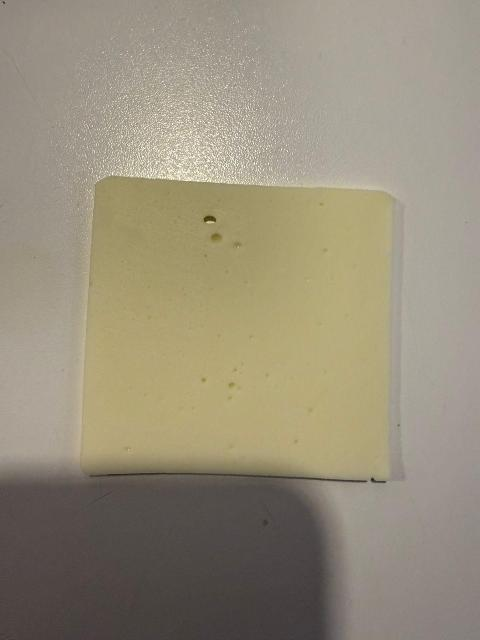Organik: (64, 180, 412, 492)
